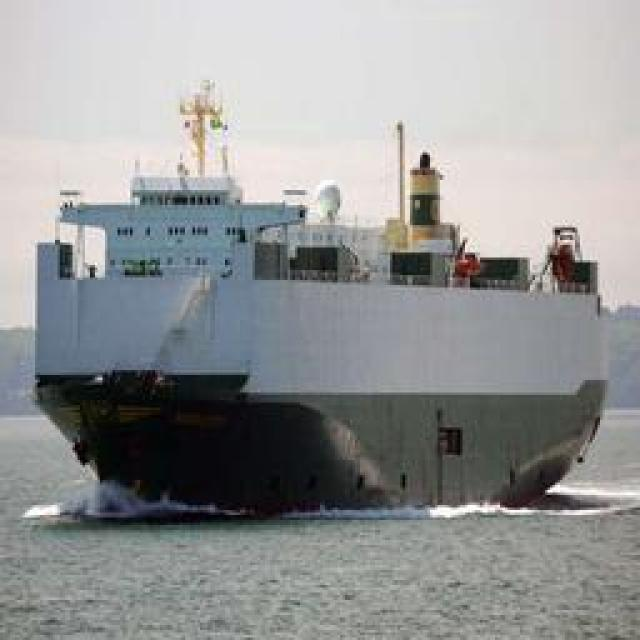CIV_Ship: (22, 86, 618, 514)
